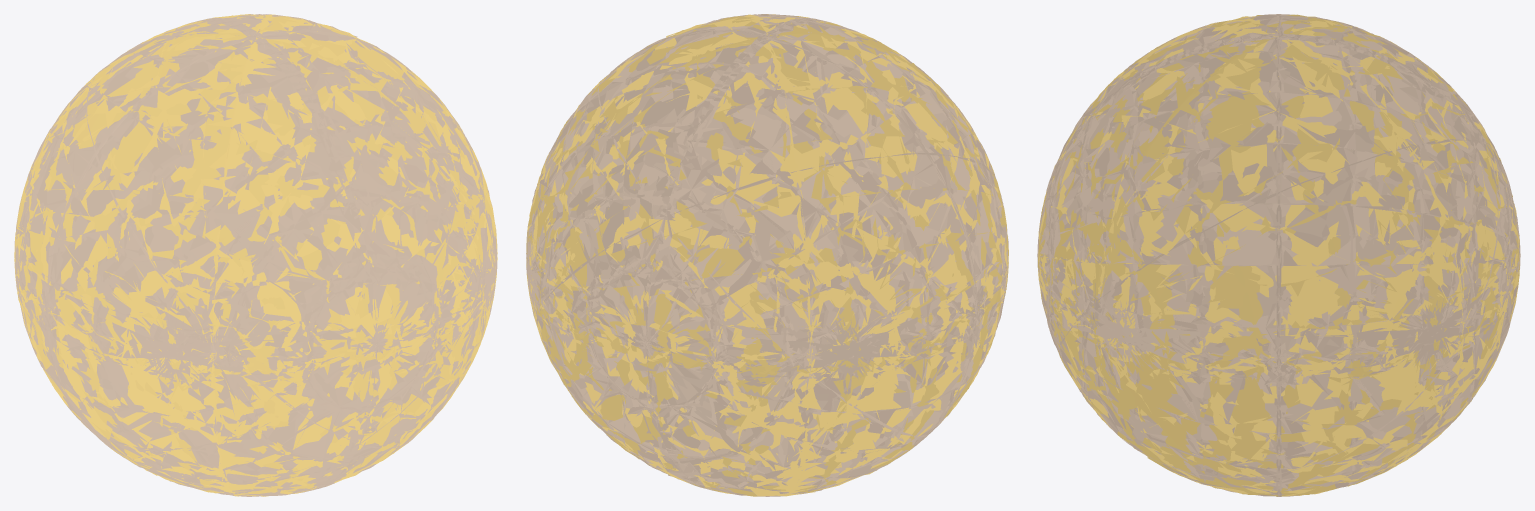
File: mud-south.glb
3 views of the same model, side by side, from view 1: azimuth 30°, elevation 25°; view 2: azimuth 150°, elevation 25°; view 3: azimuth 270°, elevation 25° (orthographic).
Parts seen in each view (by area): view 1: mudmat, anodes; view 2: mudmat, anodes; view 3: mudmat, anodes.
Boxes of the visible parts, x1,y1,x2,y2 form: mudmat: [14, 14, 497, 496]; anodes: [14, 14, 497, 496]; mudmat: [526, 14, 1008, 496]; anodes: [526, 14, 1008, 496]; mudmat: [1037, 14, 1520, 496]; anodes: [1038, 14, 1519, 496].
Size of the model in its own units: 2 by 2 by 2.
